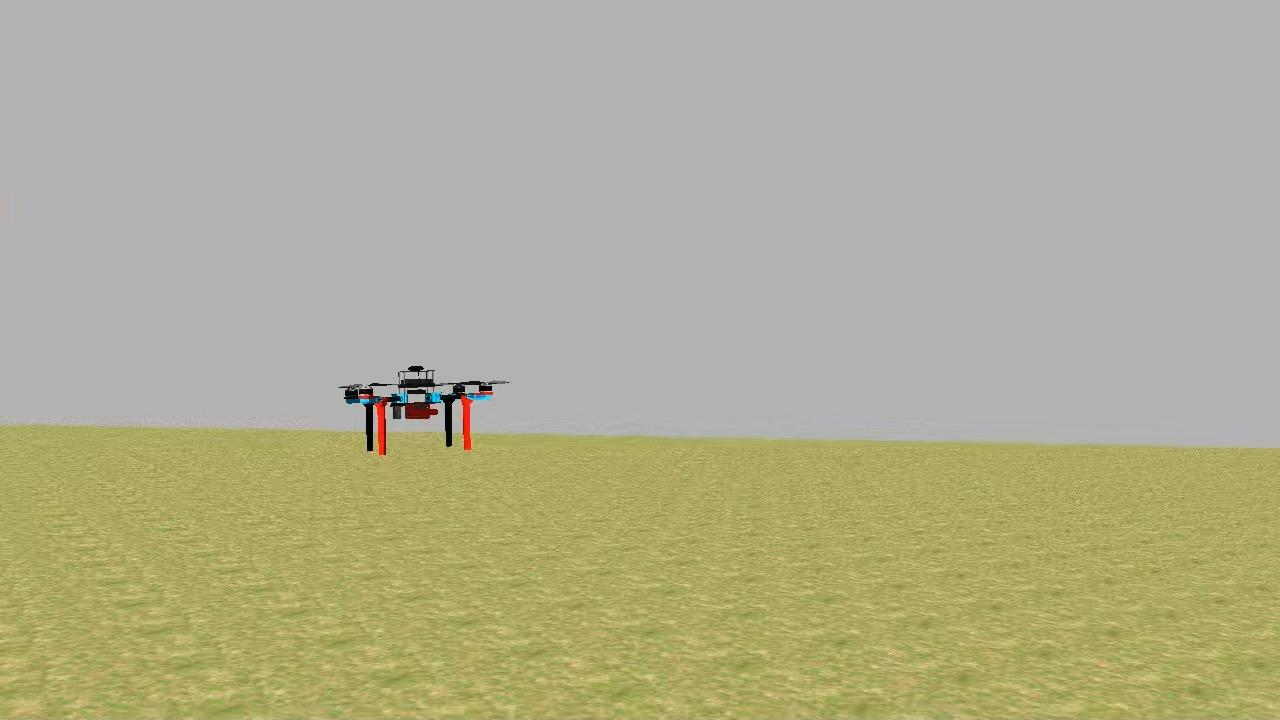UAV: (338, 364, 496, 462)
